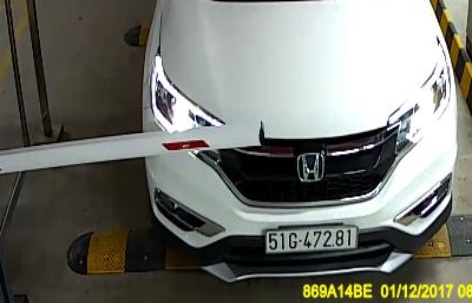plate: (265, 226, 361, 251)
